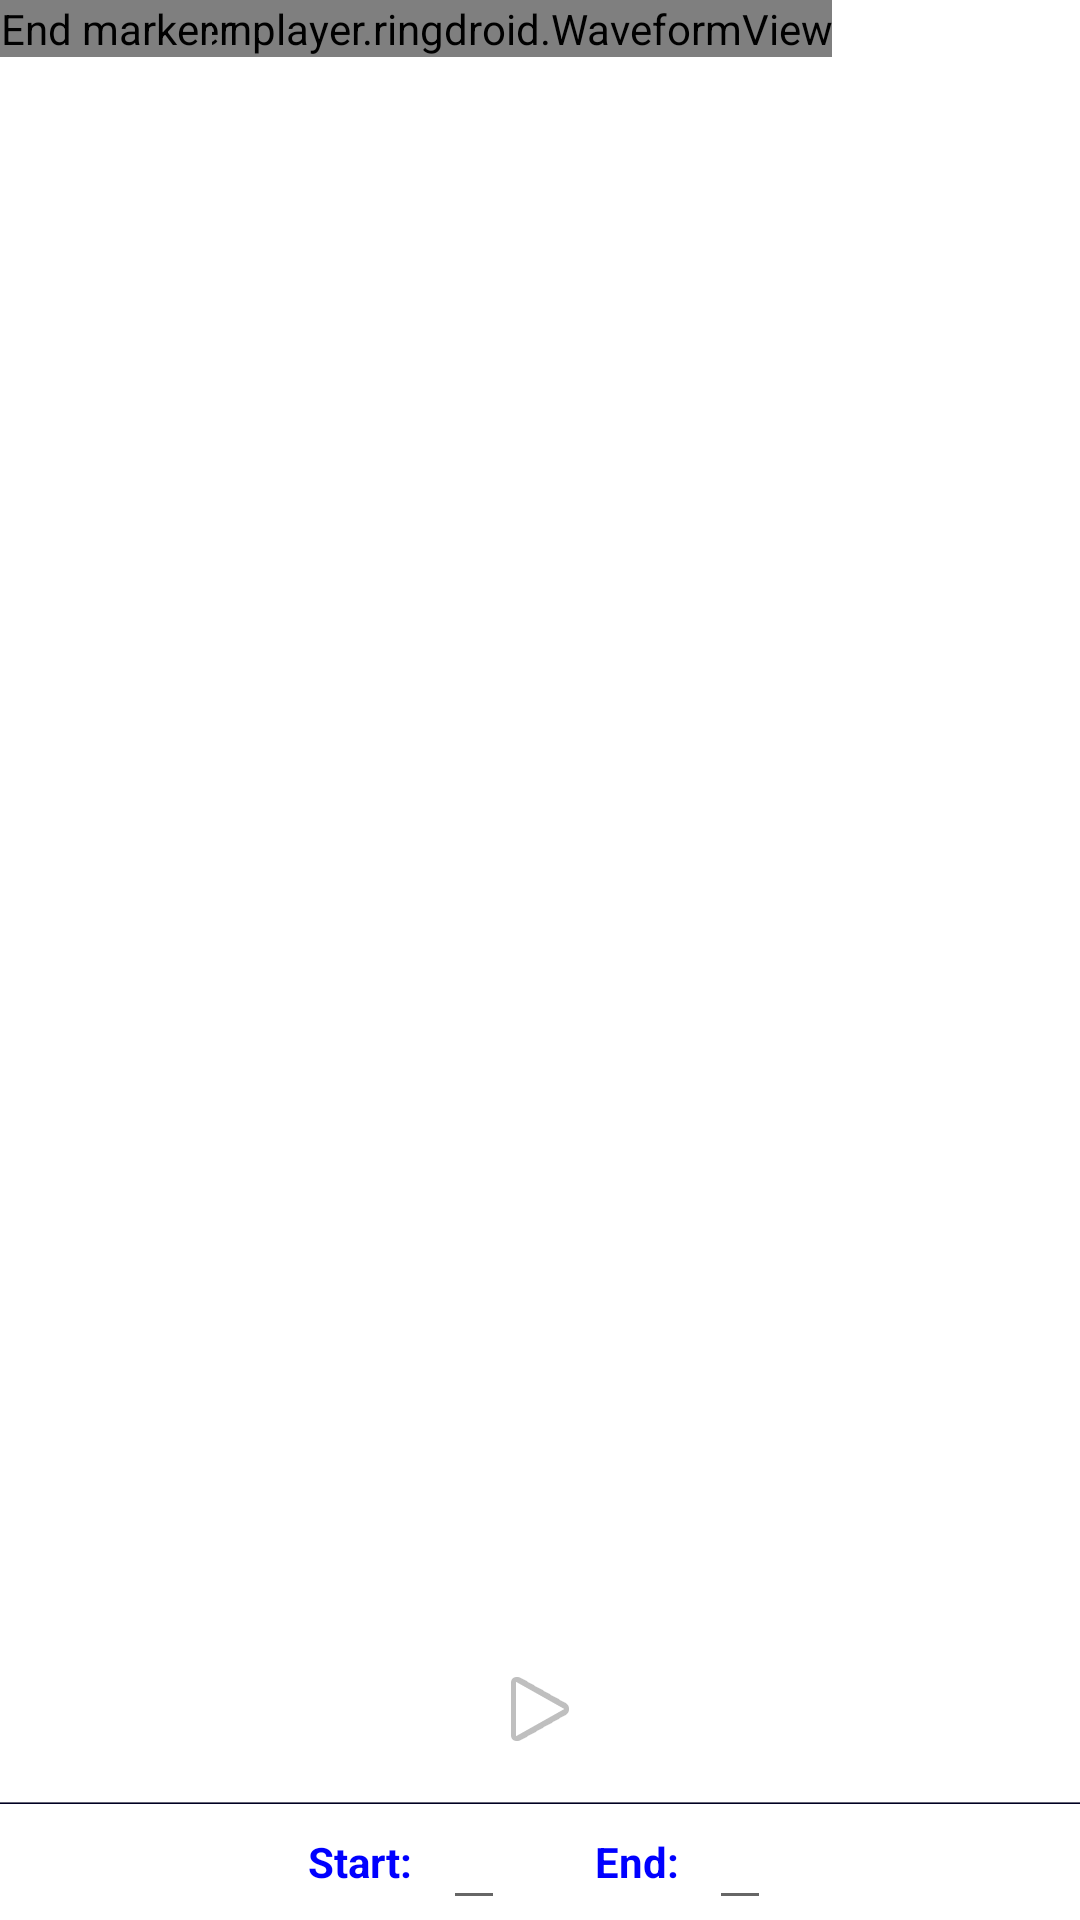

Icons on this 1080 x 1920 Android screen, each with its box as box(x1, y1, x2, y2):
Play: box(511, 1677, 569, 1741)
